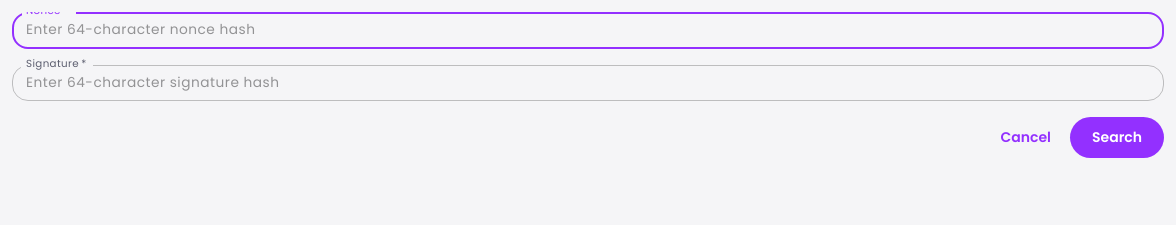
Test: SearchKernel › should show validation error for invalid nonce length
# Valid 64-char signature, invalid nonce
Step 1. Type "short-nonce" into the field labelled "Nonce *" → (588, 30), box [12,12,1164,49]
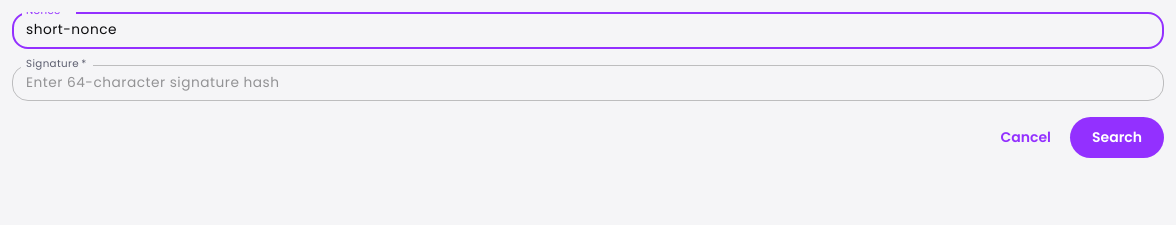
Step 2. Type "1234567890abcdef1234567890abcdef1234567890abcdef1234567890abcdef" into the field labelled "Signature *" → (588, 83), box [12,65,1164,101]
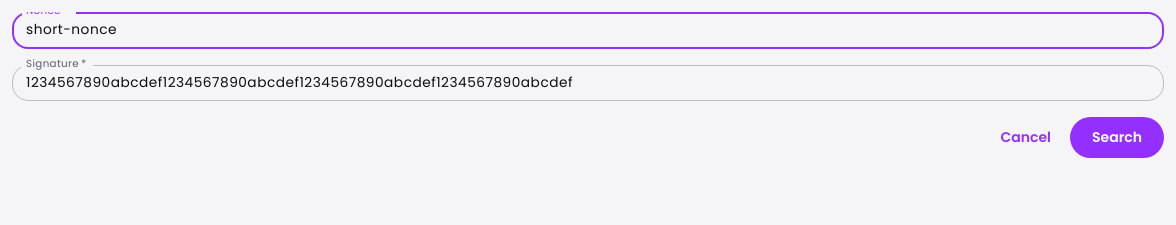
Step 3. Click the button "Search" → (1117, 138), box [1070,117,1164,158]
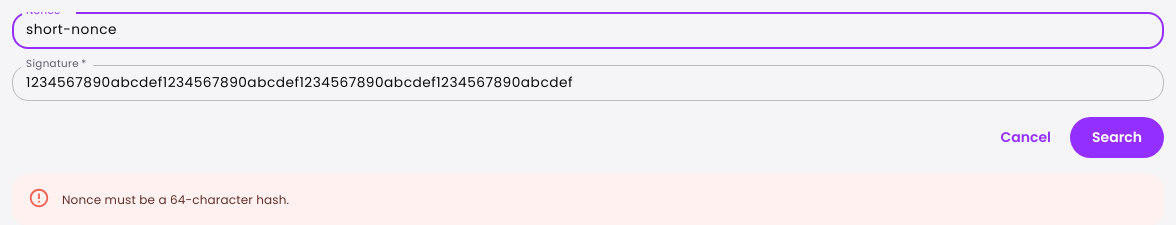
Now the text "Nonce must be a 64-character hash." is shown, box [62,191,289,208]
